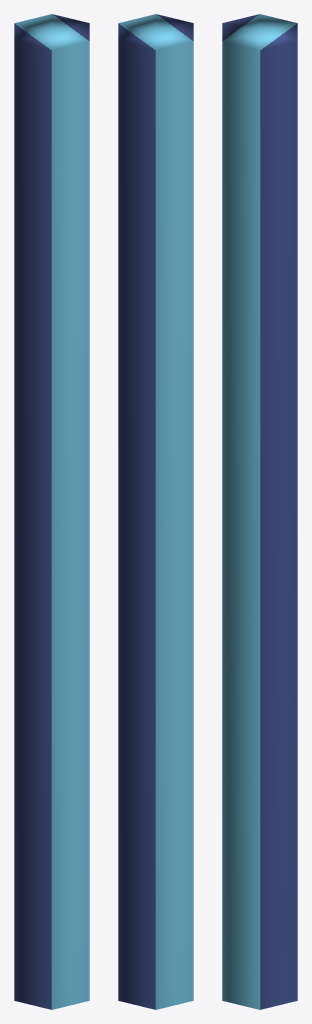
Rendered from TrucTop.fbx.
The picture shows the model from 3 angles, left to right: view 1: azimuth 30°, elevation 25°; view 2: azimuth 210°, elevation 25°; view 3: azimuth 330°, elevation 25°; orthographic projection.
Visible parts, largest first — view 1: polySurface2; view 2: polySurface2; view 3: polySurface2.
Part boxes in pixels (x1,y1,x2,y2): polySurface2: [14, 14, 89, 1009]; polySurface2: [118, 14, 193, 1009]; polySurface2: [222, 14, 297, 1009].
Bounding box in the file's own units: 0.1816 × 2.22 × 0.1573.
